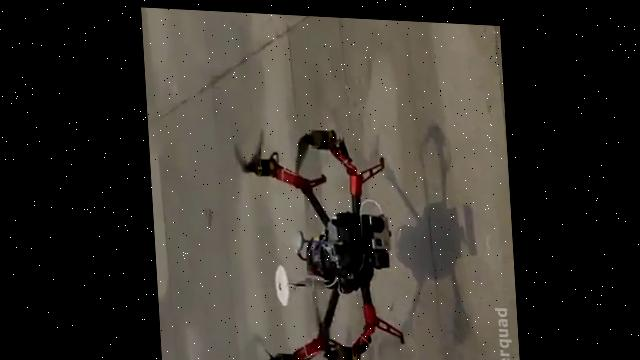drone: (220, 112, 408, 360)
